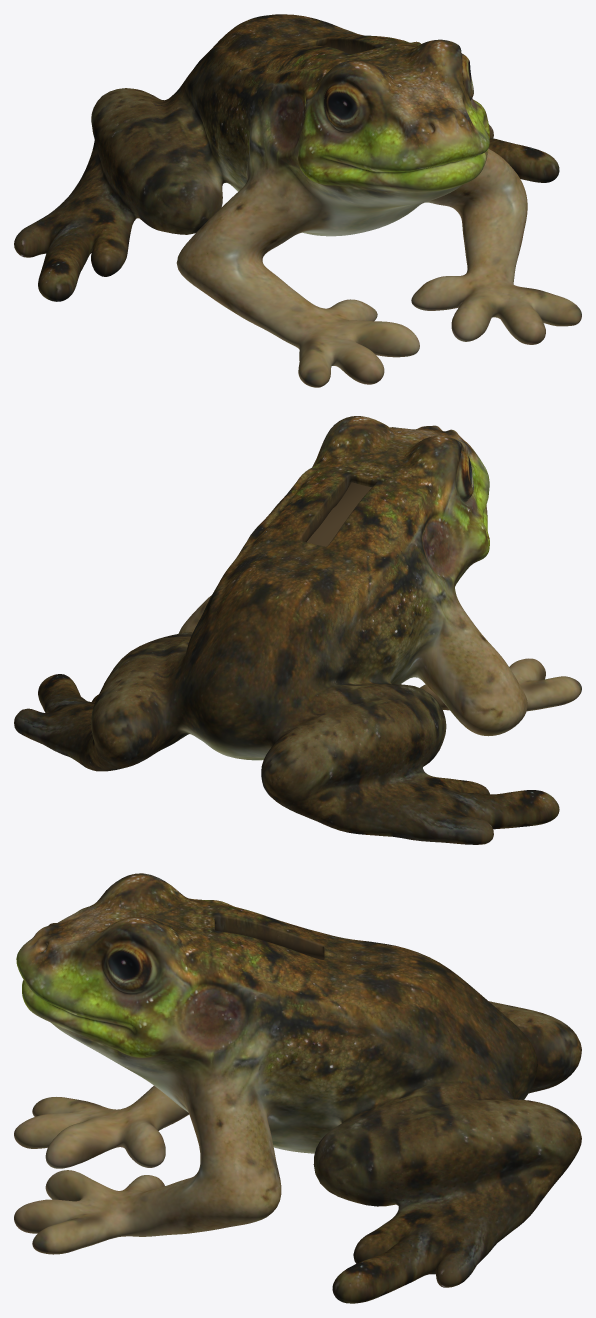
File: Frog.FBX
3 renders of one model, top to bottom at view 1: azimuth 30°, elevation 25°; view 2: azimuth 150°, elevation 25°; view 3: azimuth 270°, elevation 25°, orthographic. The views are drawn at different scales.
Parts seen in each view (by area): view 1: 20436_Frog_v1; view 2: 20436_Frog_v1; view 3: 20436_Frog_v1.
Part boxes in pixels (x1,y1,x2,y2): 20436_Frog_v1: (14, 14, 581, 387); 20436_Frog_v1: (14, 416, 581, 844); 20436_Frog_v1: (14, 873, 581, 1303).
Bounding box in the file's own units: 19.15 × 9.67 × 17.15.
1 material, 1 textured.
